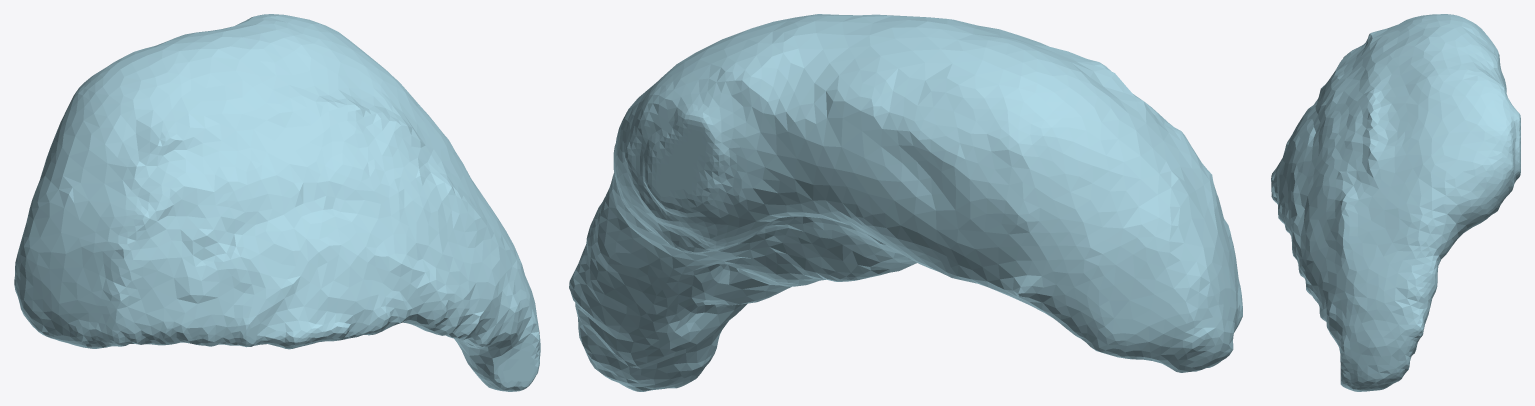
The model's file is spleen.obj.
3 renders of one model, left to right at view 1: azimuth 30°, elevation 25°; view 2: azimuth 150°, elevation 25°; view 3: azimuth 270°, elevation 25°, orthographic. The views are drawn at different scales.
Visible parts, largest first — view 1: grp1; view 2: grp1; view 3: grp1.
Part boxes in pixels (x1,y1,x2,y2): grp1: (14, 14, 540, 391); grp1: (569, 14, 1242, 391); grp1: (1271, 14, 1520, 391).
Bounding box in the file's own units: 119 × 84.96 × 72.
